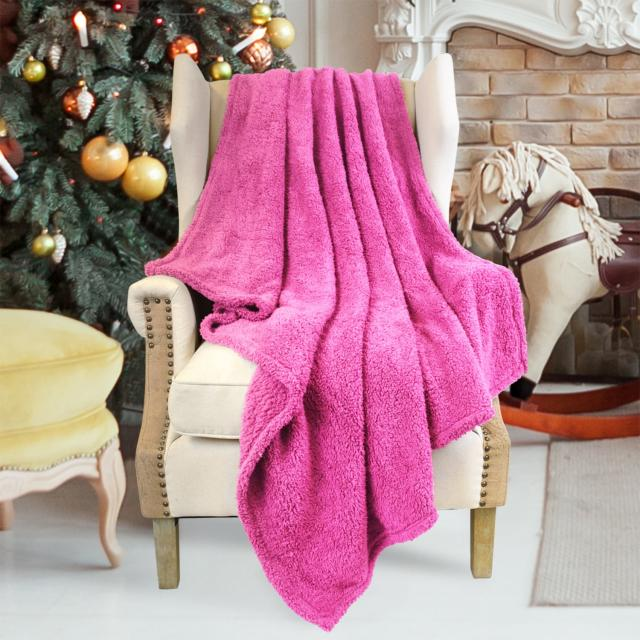blanket: (147, 70, 527, 631)
